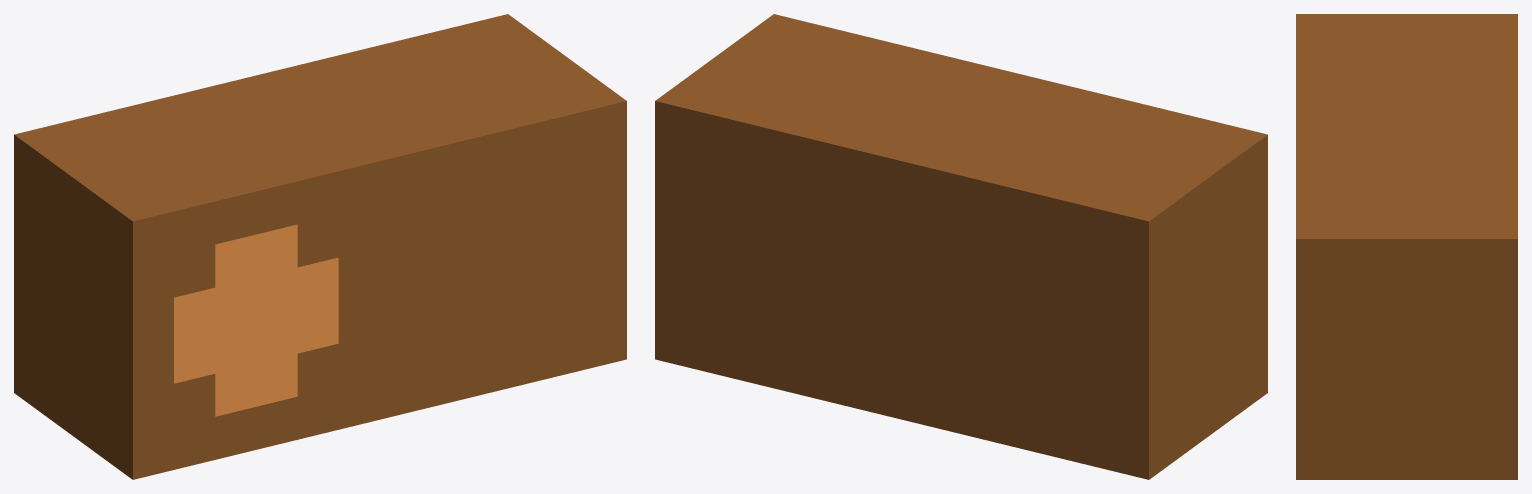
The model's file is arm_right.glb.
The picture shows the model from 3 angles, left to right: view 1: azimuth 30°, elevation 25°; view 2: azimuth 150°, elevation 25°; view 3: azimuth 270°, elevation 25°; orthographic projection. The views are drawn at different scales.
Visible parts, largest first — view 1: Node1; view 2: Node1; view 3: Node1.
Part boxes in pixels (x1=…): Node1: x1=14, y1=14, x2=626, y2=479; Node1: x1=655, y1=14, x2=1267, y2=479; Node1: x1=1296, y1=14, x2=1517, y2=479.
Bounding box in the file's own units: 1.2 × 0.6 × 0.5.
1 material, 1 textured.
